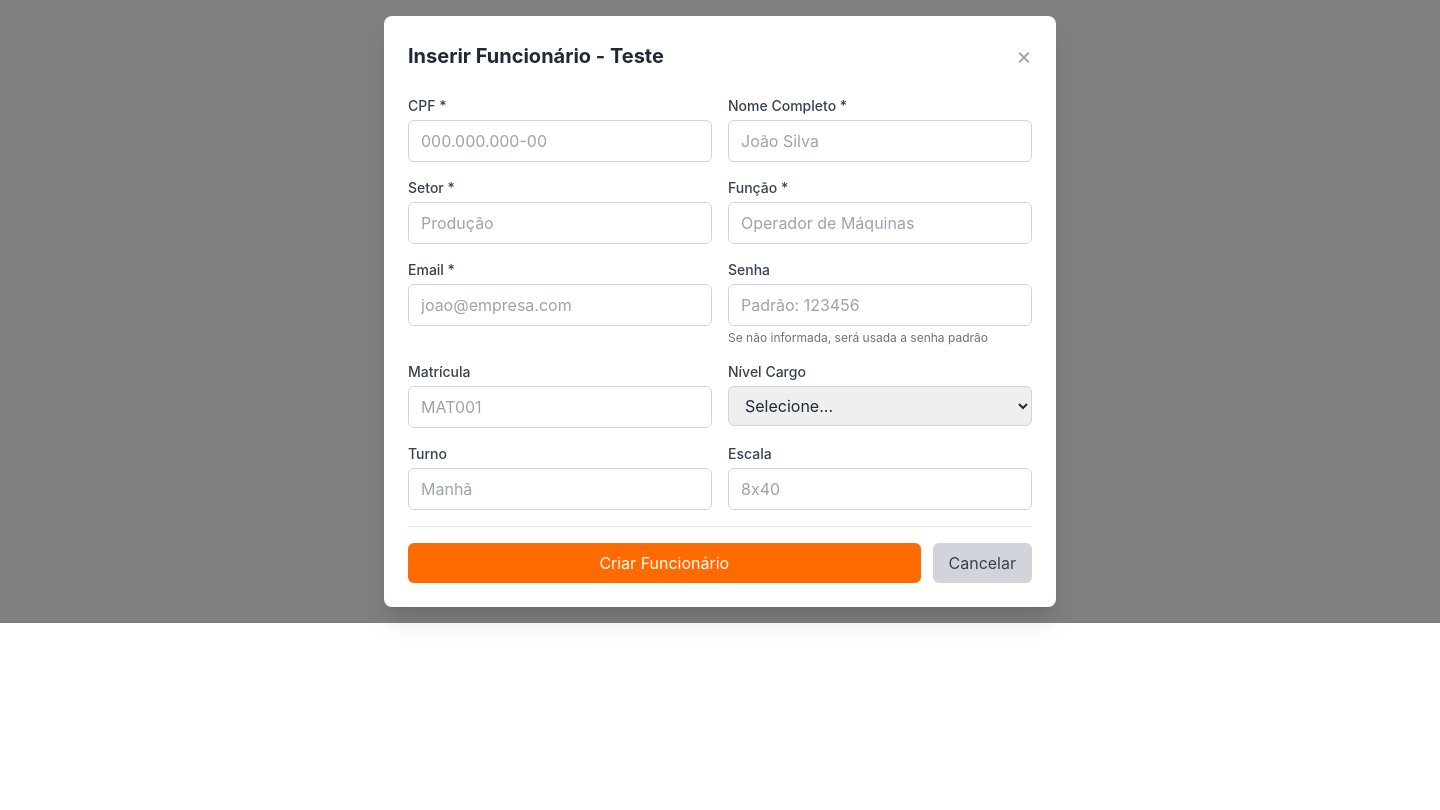
Inserção Individual de Funcionários › Validação de Campos Obrigatórios › deve validar nome obrigatório
Type "12345678909" into the field with placeholder "000.000.000-00" at (560, 141), box 408,120 -> 712,162
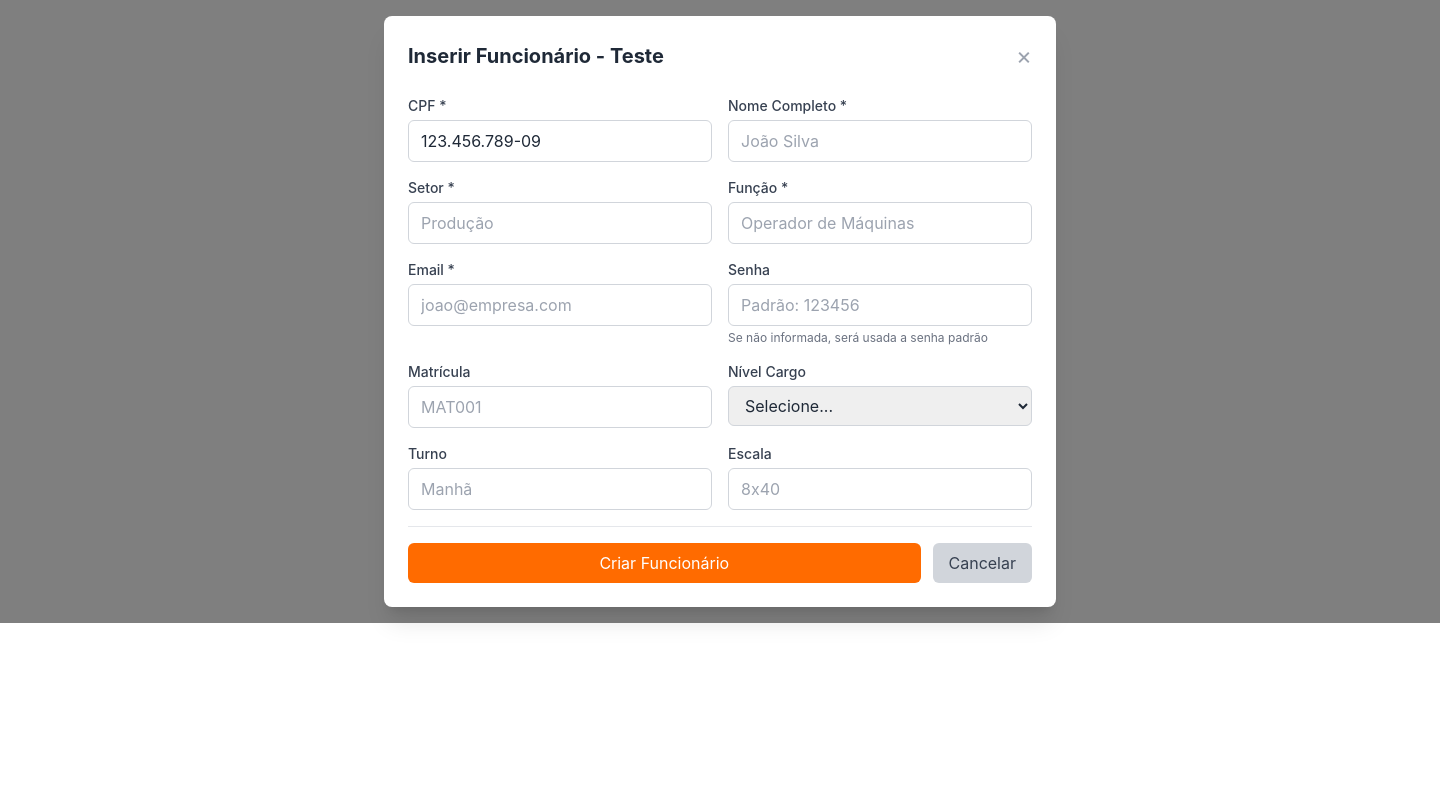
Submit the form, box 408,96 -> 1032,583
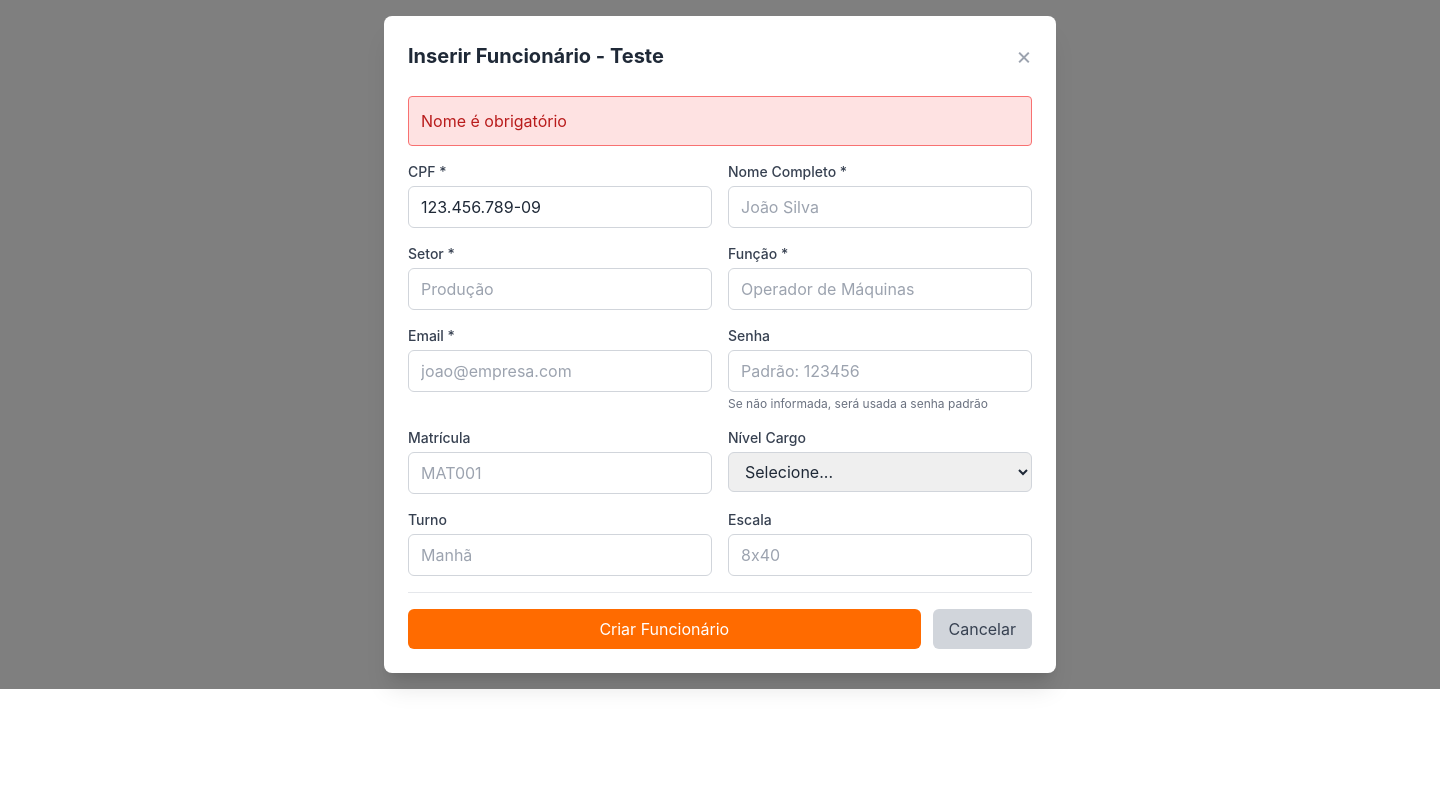
expect the text "Nome é obrigatório" is shown: met, box 408,96 -> 1032,146
